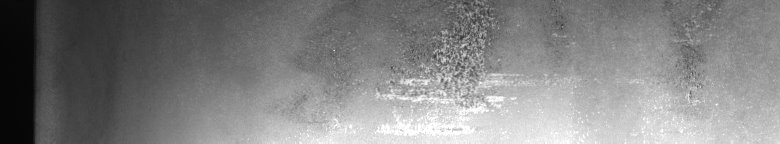hc: (375, 4, 567, 130)
